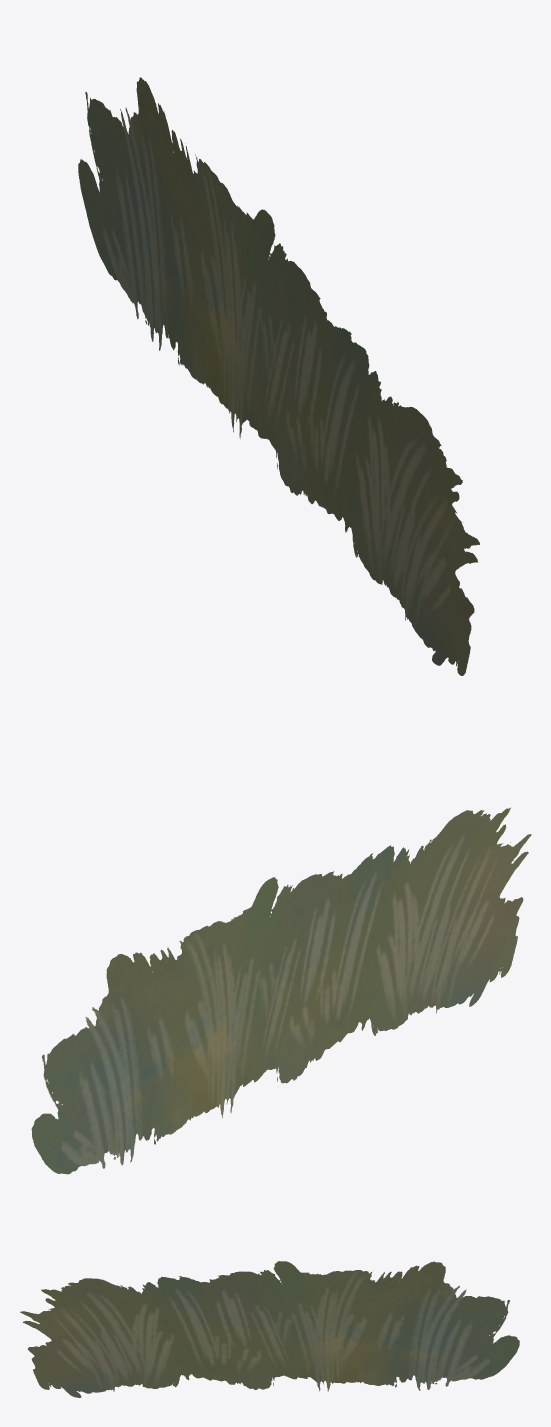
File: grass8.fbx
The picture shows the model from 3 angles, top to bottom: view 1: azimuth 30°, elevation 25°; view 2: azimuth 150°, elevation 25°; view 3: azimuth 270°, elevation 25°; orthographic projection. The views are drawn at different scales.
Parts seen in each view (by area): view 1: grass8; view 2: grass8; view 3: grass8.
Boxes of the visible parts, x1,y1,x2,y2 form: grass8: (78,77,479,675); grass8: (31,807,531,1174); grass8: (20,1261,519,1397).
Size of the model in its own units: 47.27 by 165 by 416.
